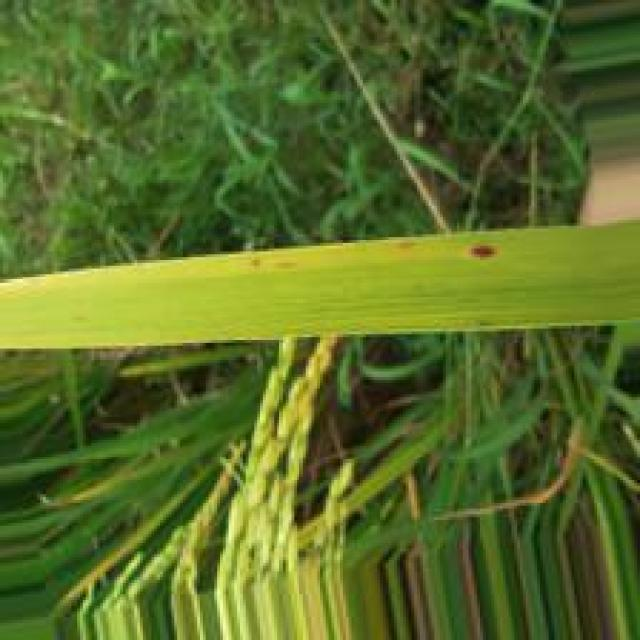Brown_Spot: (458, 242, 504, 262)
